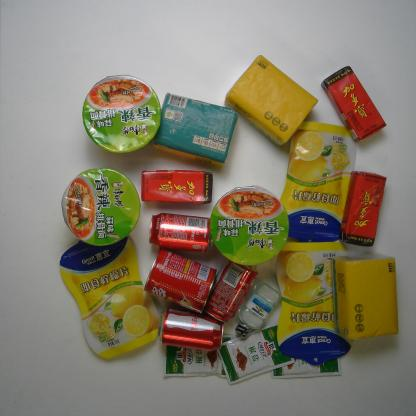Canned Food: (141, 248, 217, 316)
Dried Fruit: (59, 237, 161, 359), (272, 238, 354, 366), (278, 118, 358, 243)
Drink: (320, 64, 388, 144), (339, 170, 390, 248), (204, 259, 260, 323), (156, 307, 226, 351), (148, 211, 215, 253), (139, 168, 215, 203)
Instant Noodles: (208, 184, 293, 267), (81, 72, 164, 155), (60, 167, 142, 249)
Personal Hygiene: (233, 278, 282, 338)
Seasoner: (217, 325, 297, 386), (162, 333, 234, 379), (271, 354, 343, 378)
Tissue: (223, 54, 320, 147), (152, 90, 240, 168), (328, 254, 399, 342)
